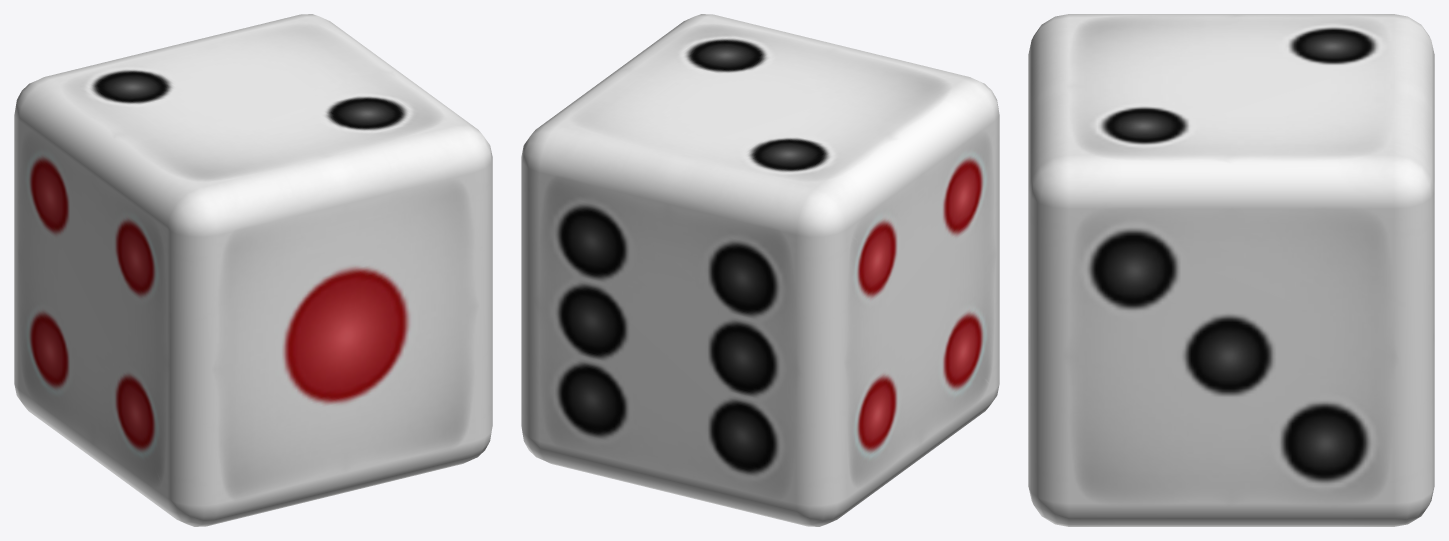
Rendered from Dice.fbx.
The picture shows the model from 3 angles, left to right: view 1: azimuth 30°, elevation 25°; view 2: azimuth 150°, elevation 25°; view 3: azimuth 270°, elevation 25°; orthographic projection. The views are drawn at different scales.
Visible parts, largest first — view 1: pCube1; view 2: pCube1; view 3: pCube1.
Part boxes in pixels (x1=…): pCube1: x1=14, y1=14, x2=492, y2=526; pCube1: x1=521, y1=14, x2=999, y2=526; pCube1: x1=1028, y1=14, x2=1434, y2=526.
Bounding box in the file's own units: 1 × 1 × 1.
